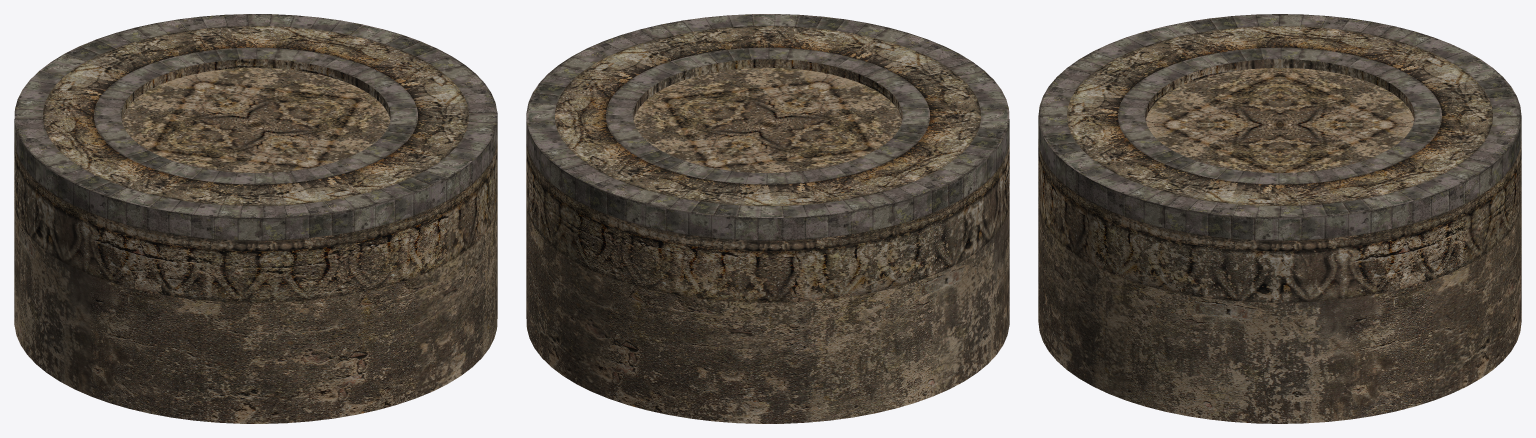
The model's file is materials_5_pillar_fat_21.fbx.
3 renders of one model, left to right at view 1: azimuth 30°, elevation 25°; view 2: azimuth 150°, elevation 25°; view 3: azimuth 270°, elevation 25°, orthographic.
Visible parts, largest first — view 1: materials_5_pillar_fat_21; view 2: materials_5_pillar_fat_21; view 3: materials_5_pillar_fat_21.
Part boxes in pixels (bbox=[...]): materials_5_pillar_fat_21: bbox=[14, 14, 497, 423]; materials_5_pillar_fat_21: bbox=[526, 14, 1009, 423]; materials_5_pillar_fat_21: bbox=[1038, 14, 1521, 423].
Size of the model in its own units: 135 by 63.29 by 135.
